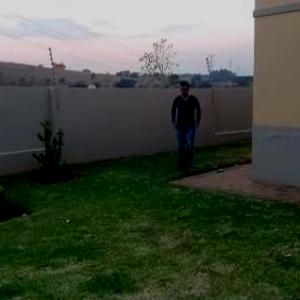follow: (170, 77, 203, 174)
